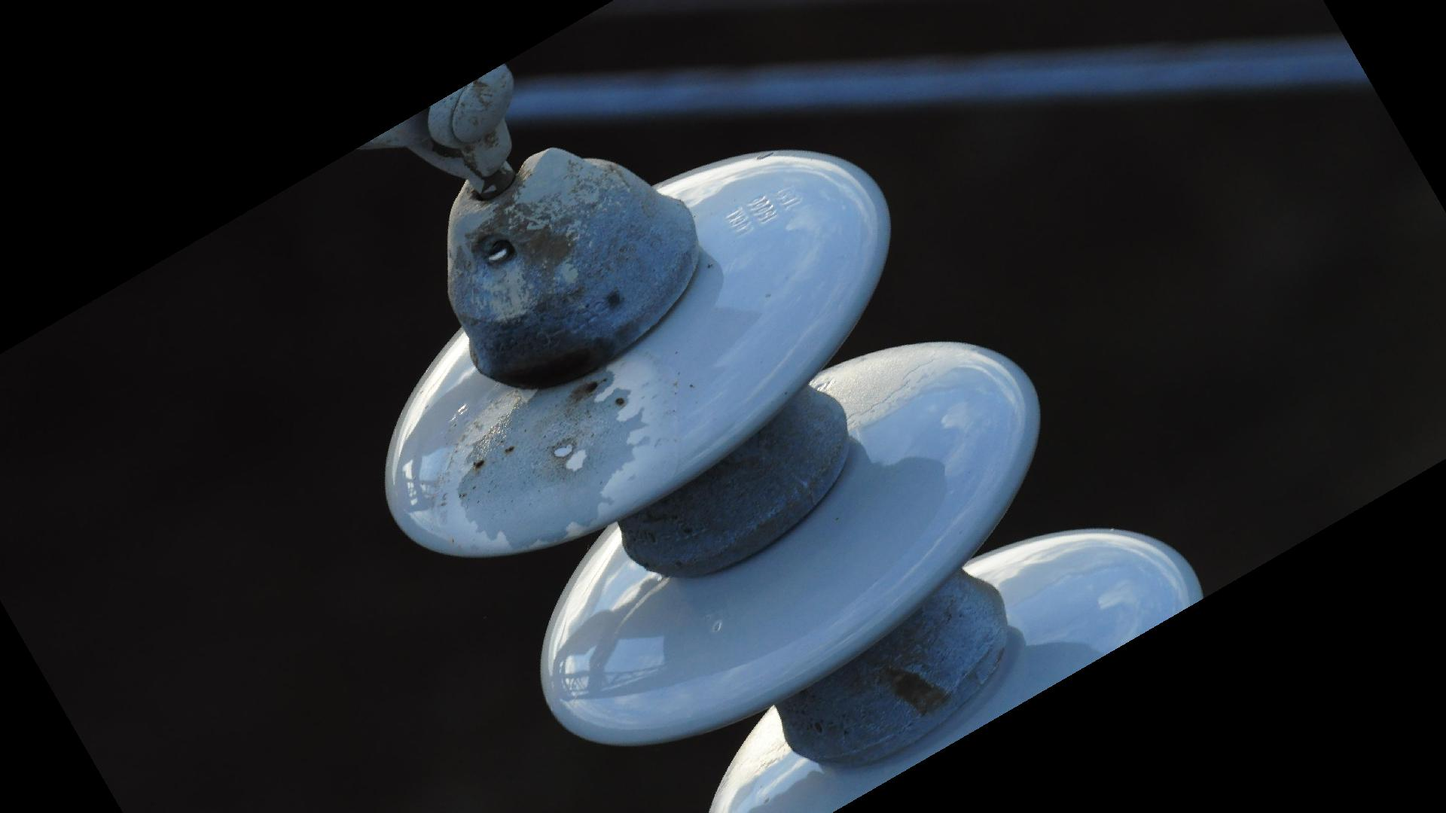insulator: (373, 141, 1210, 813)
insulator_flashover: (454, 365, 650, 554)
